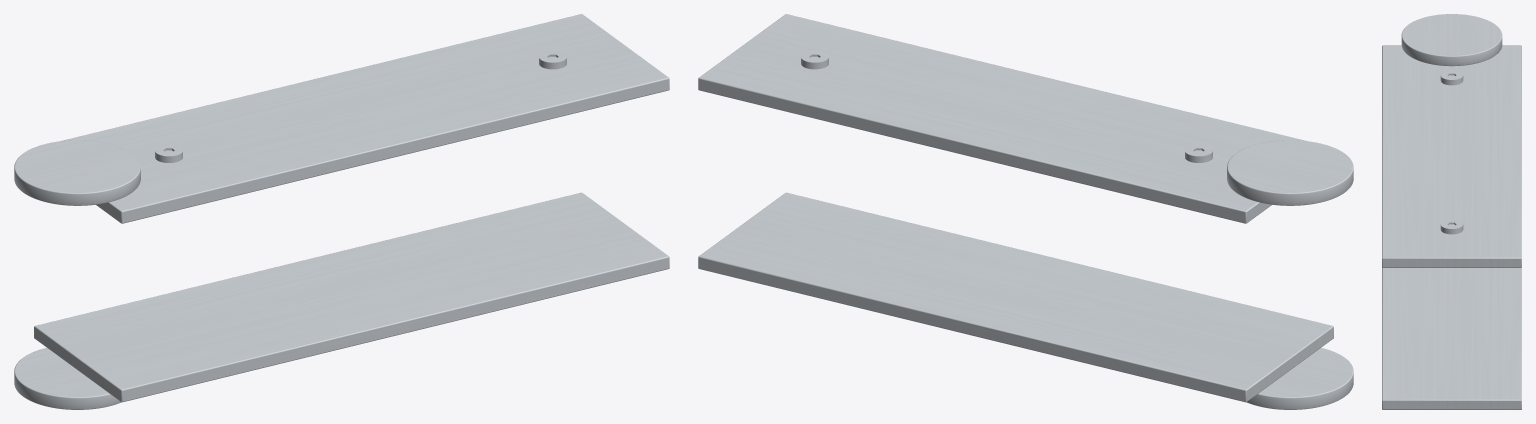
File: right_forearm_aluminium.obj
3 renders of one model, left to right at view 1: azimuth 30°, elevation 25°; view 2: azimuth 150°, elevation 25°; view 3: azimuth 270°, elevation 25°, orthographic. The views are drawn at different scales.
Visible parts, largest first — view 1: right_forearm__aluminium_cheek_-1, right_forearm__aluminium_cheek_1, right_forearm__pivot_cap_1, right_forearm__pivot_cap_-1; view 2: right_forearm__aluminium_cheek_-1, right_forearm__aluminium_cheek_1, right_forearm__pivot_cap_1, right_forearm__pivot_cap_-1; view 3: right_forearm__aluminium_cheek_1, right_forearm__aluminium_cheek_-1, right_forearm__pivot_cap_1, right_forearm__bracket_screw_1_0.078, right_forearm__bracket_screw_1_0.015.
Part boxes in pixels (x1,y1,x2,y2): right_forearm__aluminium_cheek_-1: [34, 192, 669, 402]; right_forearm__aluminium_cheek_1: [60, 14, 669, 223]; right_forearm__pivot_cap_1: [14, 140, 140, 205]; right_forearm__pivot_cap_-1: [14, 348, 121, 409]; right_forearm__aluminium_cheek_-1: [698, 192, 1333, 402]; right_forearm__aluminium_cheek_1: [698, 14, 1307, 223]; right_forearm__pivot_cap_1: [1227, 140, 1353, 205]; right_forearm__pivot_cap_-1: [1246, 348, 1353, 409]; right_forearm__aluminium_cheek_1: [1382, 45, 1521, 267]; right_forearm__aluminium_cheek_-1: [1382, 267, 1521, 409]; right_forearm__pivot_cap_1: [1401, 14, 1502, 66]; right_forearm__bracket_screw_1_0.078: [1440, 219, 1463, 234]; right_forearm__bracket_screw_1_0.015: [1440, 70, 1463, 85].
Size of the model in its own units: 0.099 by 0.034 by 0.025.
Materials: 1 (1 with a texture image).
